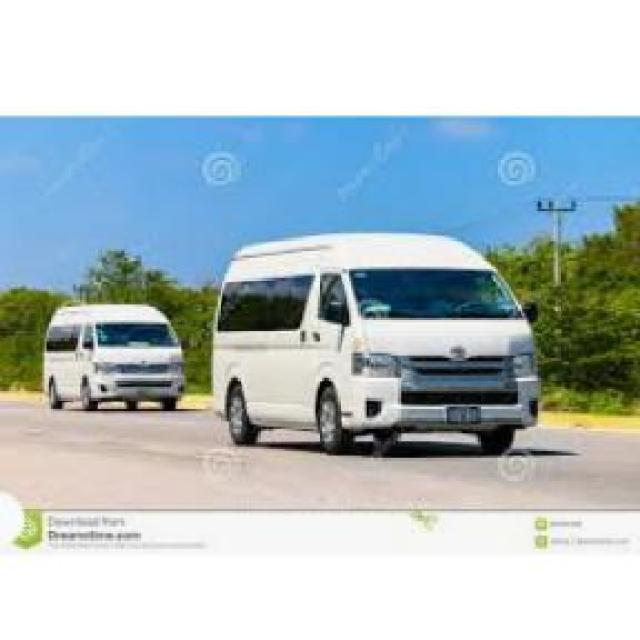Van: (213, 231, 545, 451), (42, 300, 184, 408)
